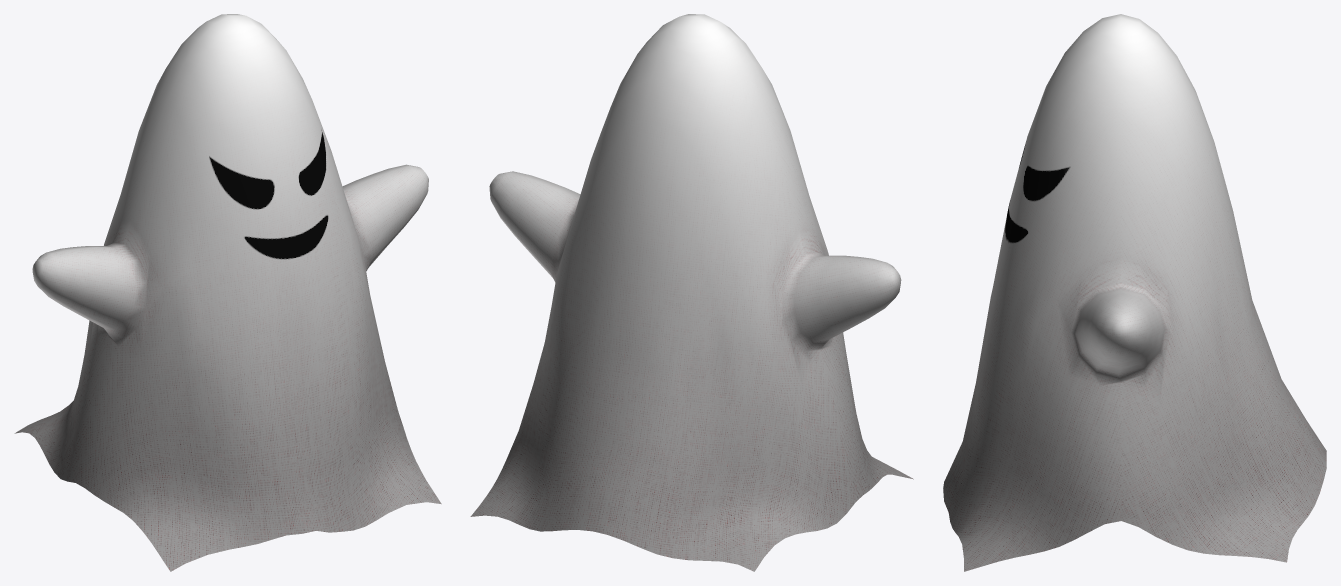
Rendered from Ghost.fbx.
3 views of the same model, side by side, from view 1: azimuth 30°, elevation 25°; view 2: azimuth 150°, elevation 25°; view 3: azimuth 270°, elevation 25° (orthographic). The views are drawn at different scales.
Parts seen in each view (by area): view 1: Ghost; view 2: Ghost; view 3: Ghost.
Part boxes in pixels (box(x1,y1,x2,y2)): Ghost: box(14, 14, 441, 571); Ghost: box(470, 14, 913, 571); Ghost: box(943, 14, 1326, 571).
Bounding box in the file's own units: 22.82 × 25.98 × 18.56.
Materials: 1 (1 with a texture image).
